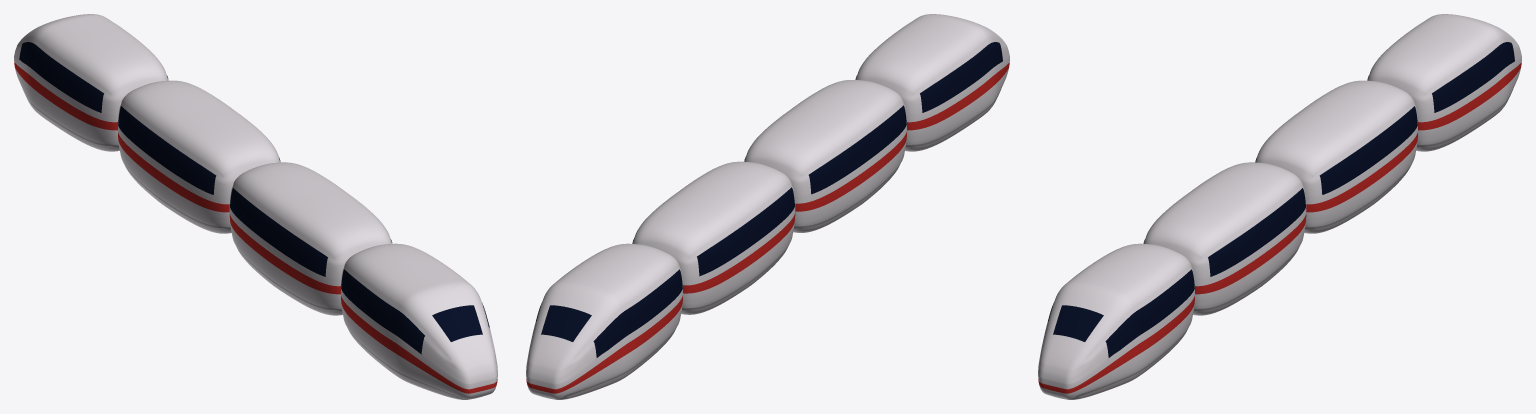
The model's file is ICE.gltf.
3 views of the same model, side by side, from view 1: azimuth 30°, elevation 25°; view 2: azimuth 150°, elevation 25°; view 3: azimuth 330°, elevation 25° (orthographic).
Visible parts, largest first — view 1: Cube006_1, Cube006_3, Cube006_2, Cube006; view 2: Cube006_1, Cube006_3, Cube006_2, Cube006; view 3: Cube006_1, Cube006_3, Cube006_2, Cube006.
Part boxes in pixels (box(x1,y1,x2,y2)): Cube006_1: box(14, 14, 497, 399); Cube006_3: box(19, 42, 489, 354); Cube006_2: box(14, 62, 497, 393); Cube006: box(27, 98, 476, 399); Cube006_1: box(526, 14, 1009, 399); Cube006_3: box(536, 42, 1002, 357); Cube006_2: box(526, 62, 1009, 393); Cube006: box(547, 98, 996, 399); Cube006_1: box(1038, 14, 1521, 399); Cube006_3: box(1048, 42, 1514, 357); Cube006_2: box(1038, 62, 1521, 393); Cube006: box(1059, 98, 1508, 399).
Size of the model in its own units: 2.24 by 2.15 by 20.06.
